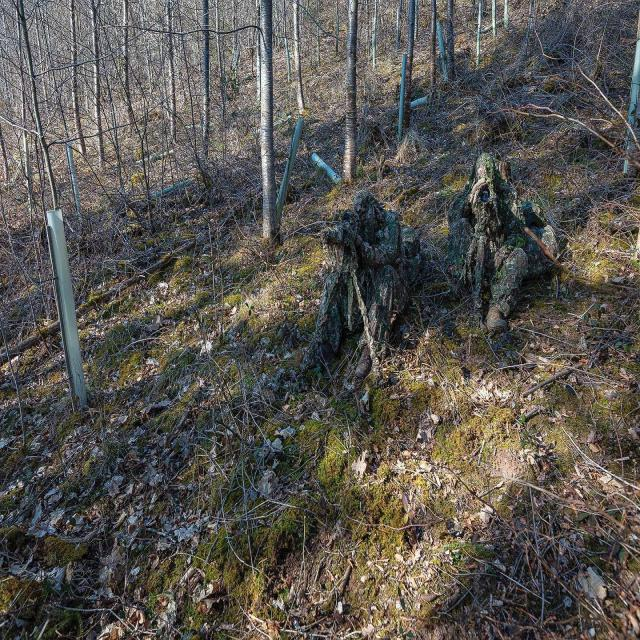human: (451, 153, 557, 329), (323, 191, 419, 351)
